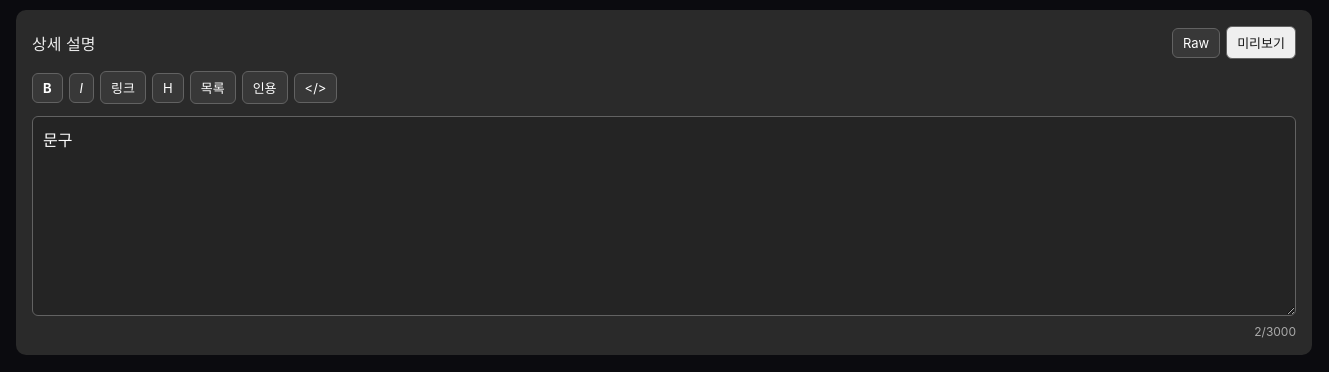
Test: 하이퍼링크 버튼은 선택 영역에 마크다운을 적용한다
Step 1. Click the button "Raw" → (1196, 42), box [1172, 28, 1220, 58]
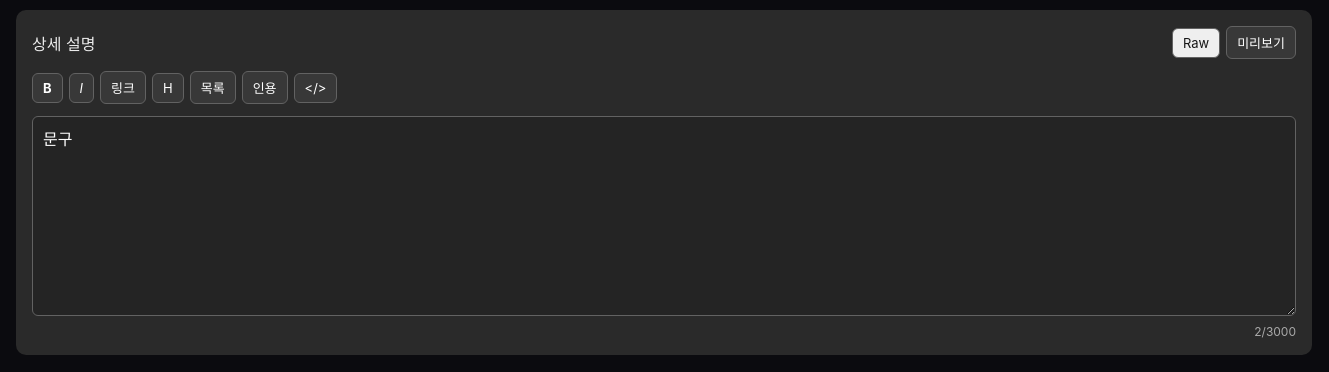
Step 2. Click the button with aria-label "하이퍼링크" → (123, 88), box [100, 71, 146, 104]
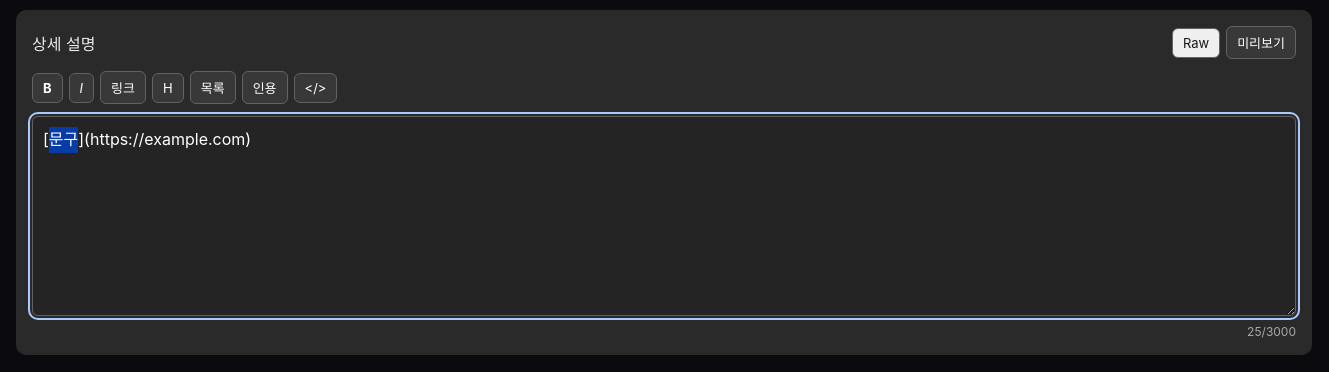
Result: the text box named "상세 설명" holds "[문구](https://example.com)" at [32, 116, 1296, 316]
